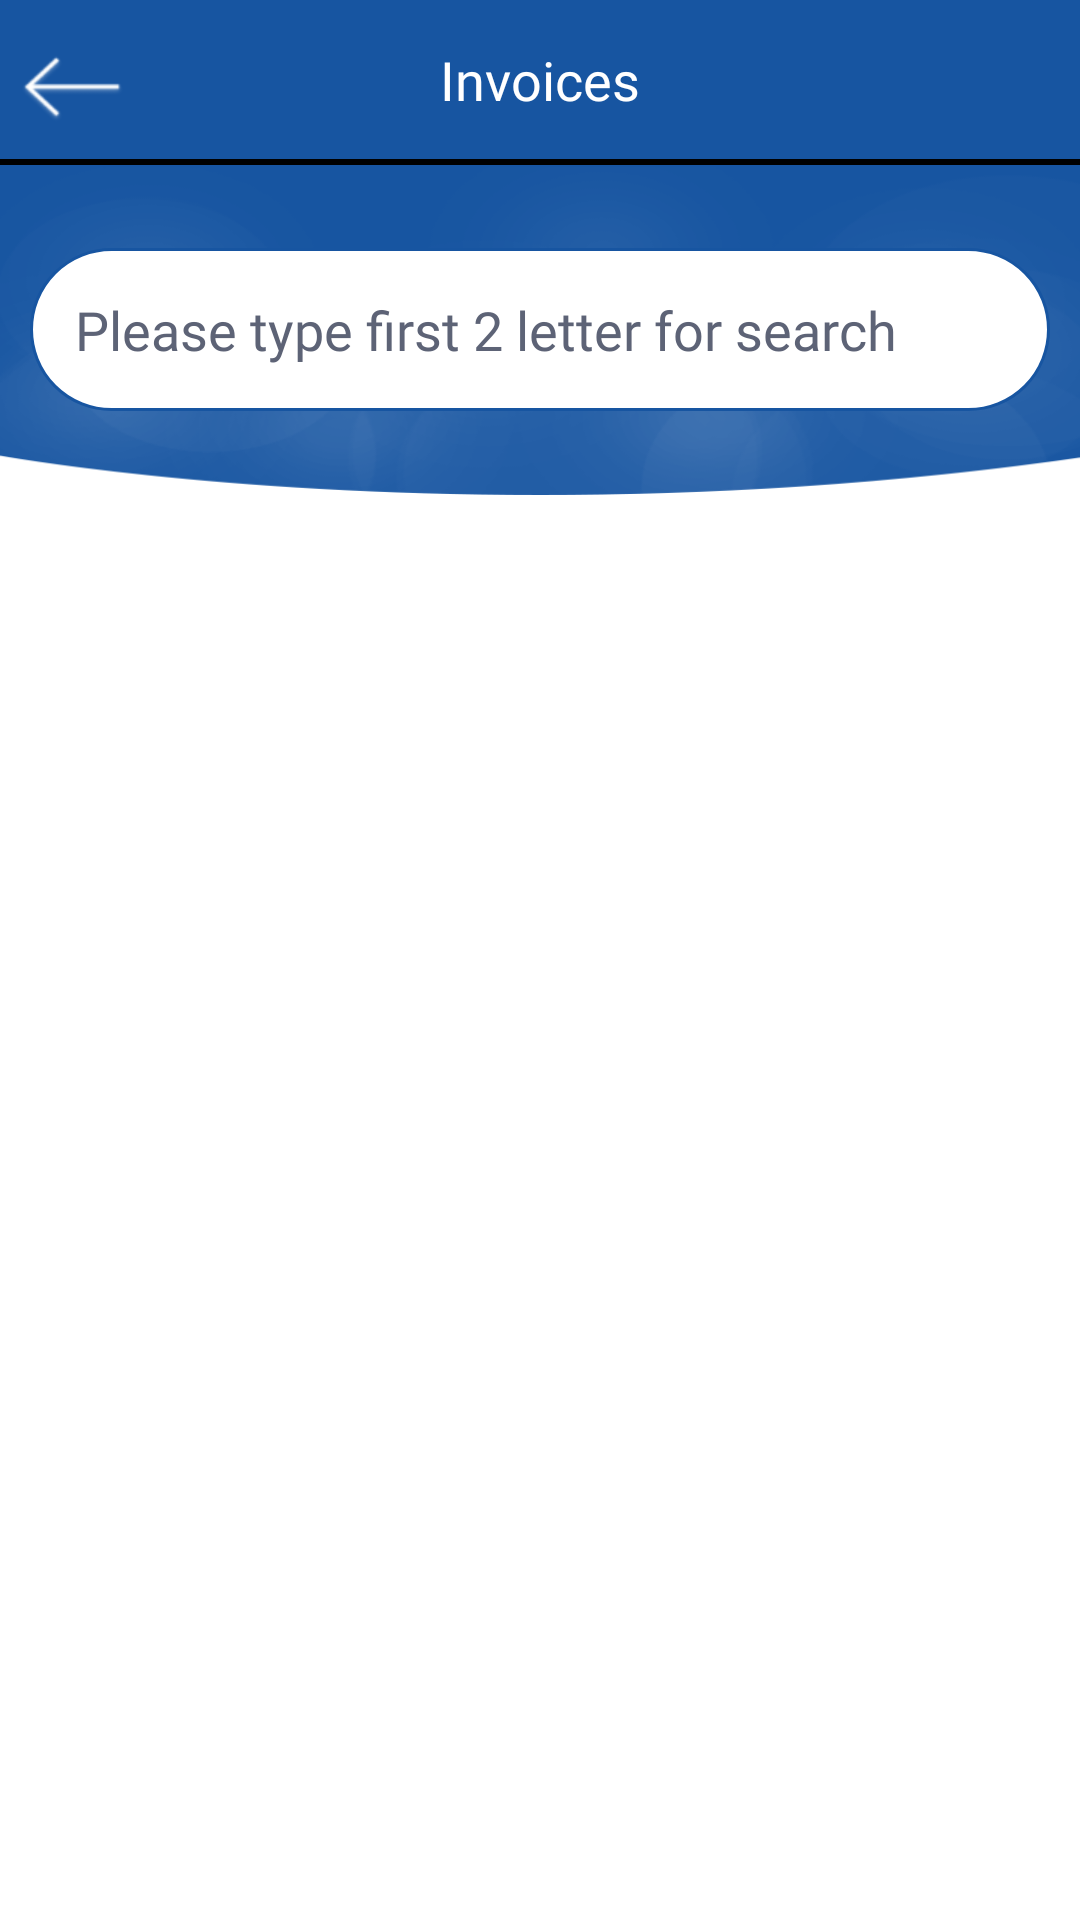

Named icons in this screenshot (1080x1920) and their bounding boxes, (x1, y1, x2, y2):
back: (24, 57, 120, 118)
